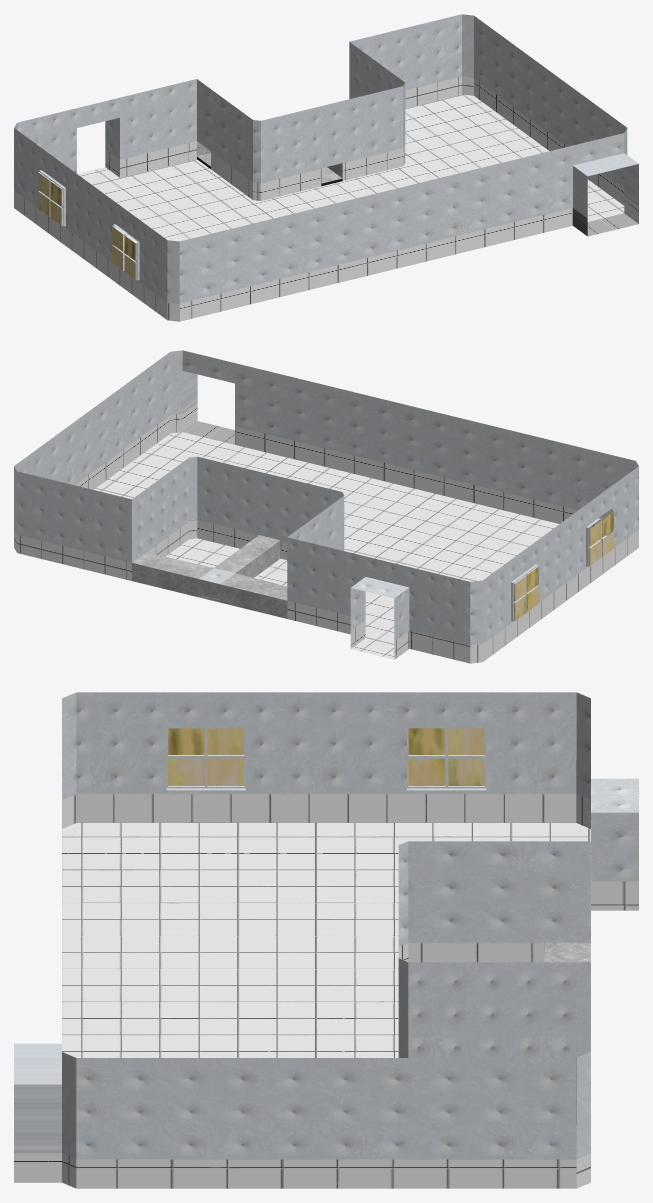
File: room2.fbx
3 renders of one model, top to bottom at view 1: azimuth 30°, elevation 25°; view 2: azimuth 150°, elevation 25°; view 3: azimuth 270°, elevation 25°, orthographic. The views are drawn at different scales.
Visible parts, largest first — view 1: Room2; view 2: Room2; view 3: Room2.
Part boxes in pixels (box(x1,y1,x2,y2)): Room2: box(14, 14, 638, 321); Room2: box(14, 350, 638, 663); Room2: box(14, 692, 638, 1188).
Bounding box in the file's own units: 1815 × 300 × 1300.
1 material, 1 textured.
